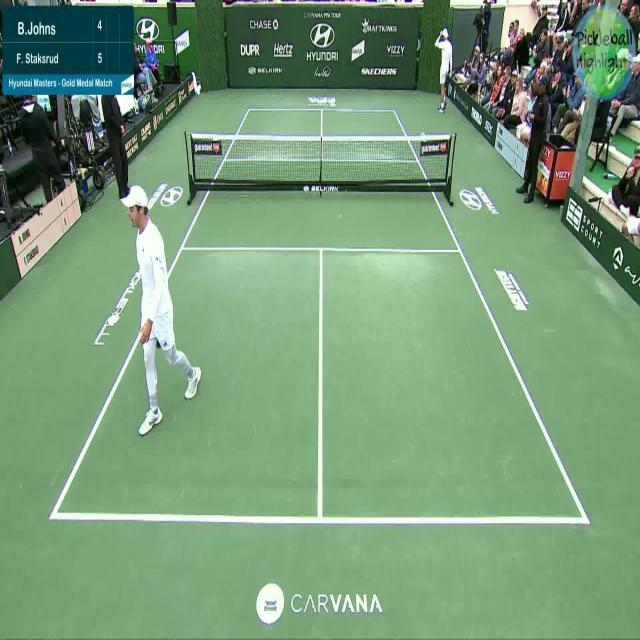Court: (54, 111, 587, 520)
